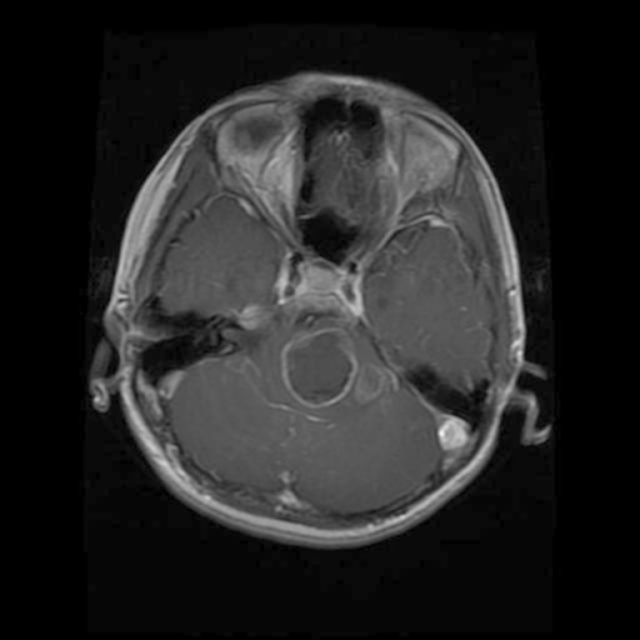pituitary tumor: (285, 342, 386, 406)
